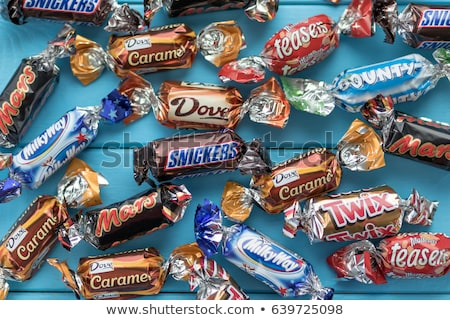snickers: (167, 141, 236, 167), (23, 0, 97, 10), (420, 8, 448, 23)
